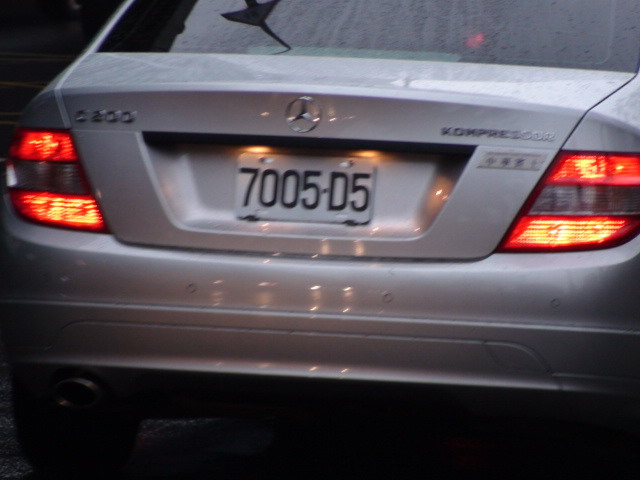plate: (232, 151, 376, 227)
